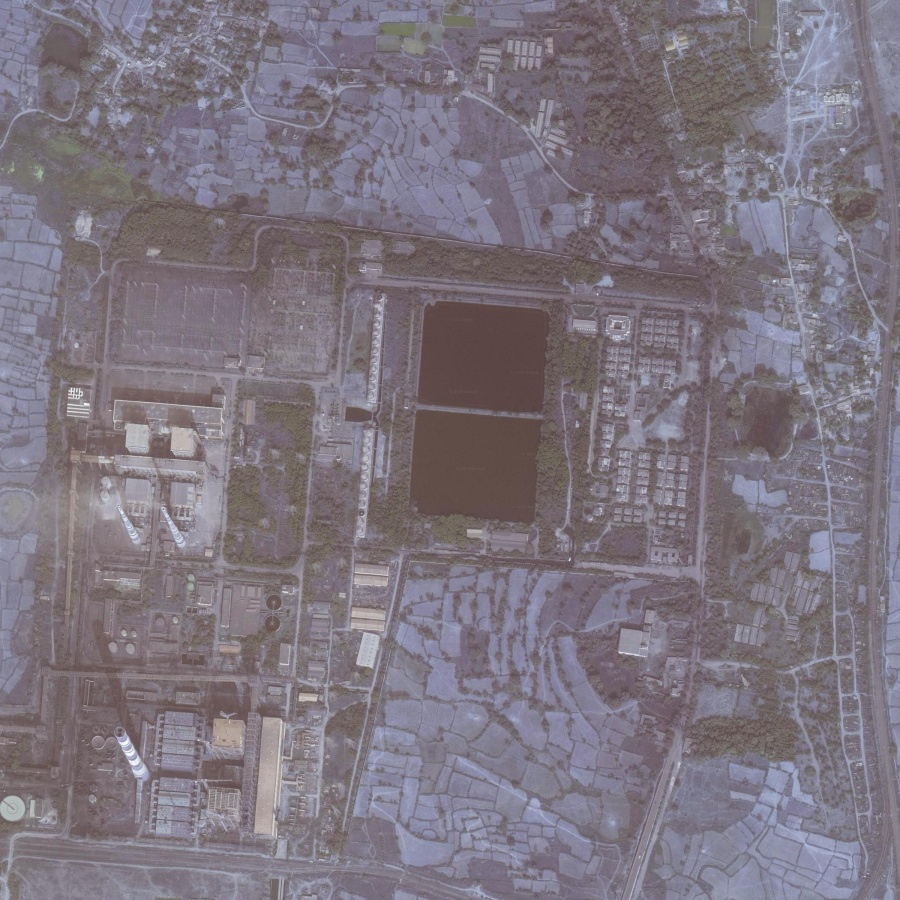PowerPlant: (70, 263, 561, 846)
